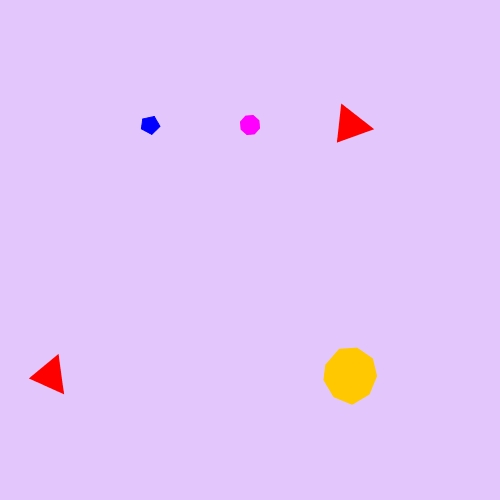nonagon: (319, 345, 382, 405)
octagon: (235, 110, 265, 140)
pentagon: (136, 111, 164, 139)
triangle: (329, 103, 372, 148), (29, 353, 71, 397)
